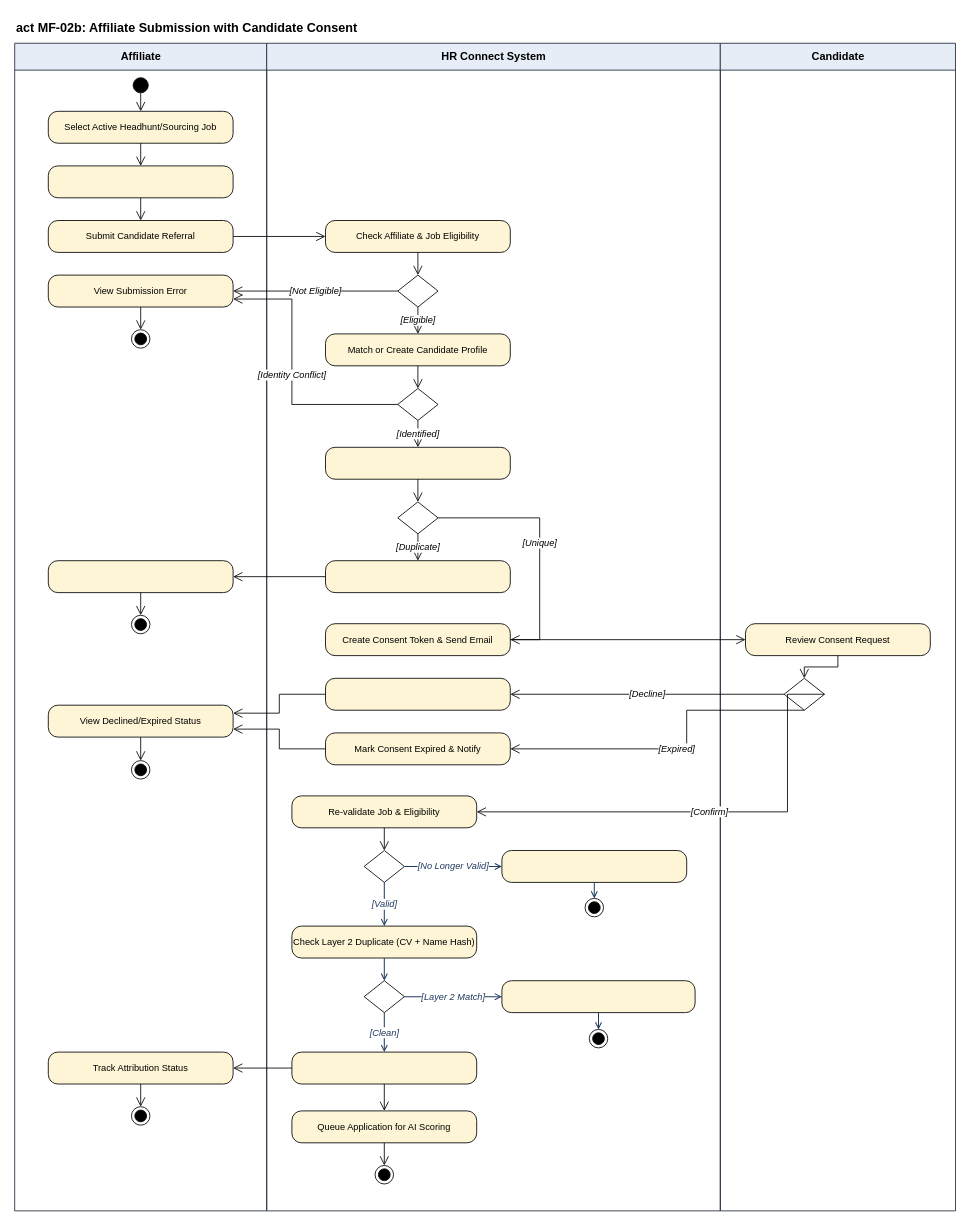
Some shapes in this 970 by 1226 pixel diagram are drawn without their labels. The shapes that lost their labels are listed below. From the top down, each one's centre as x and y in pixels, then its label:
At point (140, 181): "Provide Candidate Info & CV (or Library CV)".
At point (417, 462): "Check Duplicate, Consent & Client Ownership (30d)".
At point (140, 576): "View Duplicate Notice / Dispute".
At point (417, 576): "Block Duplicate Submission".
At point (417, 693): "Mark Consent Declined & Notify".
At point (594, 866): "Cancel Consent & Submission".
At point (598, 996): "Hold PENDING_IDENTITY_REVIEW & Open Case".
At point (384, 1067): "Create Application & Attribution".
